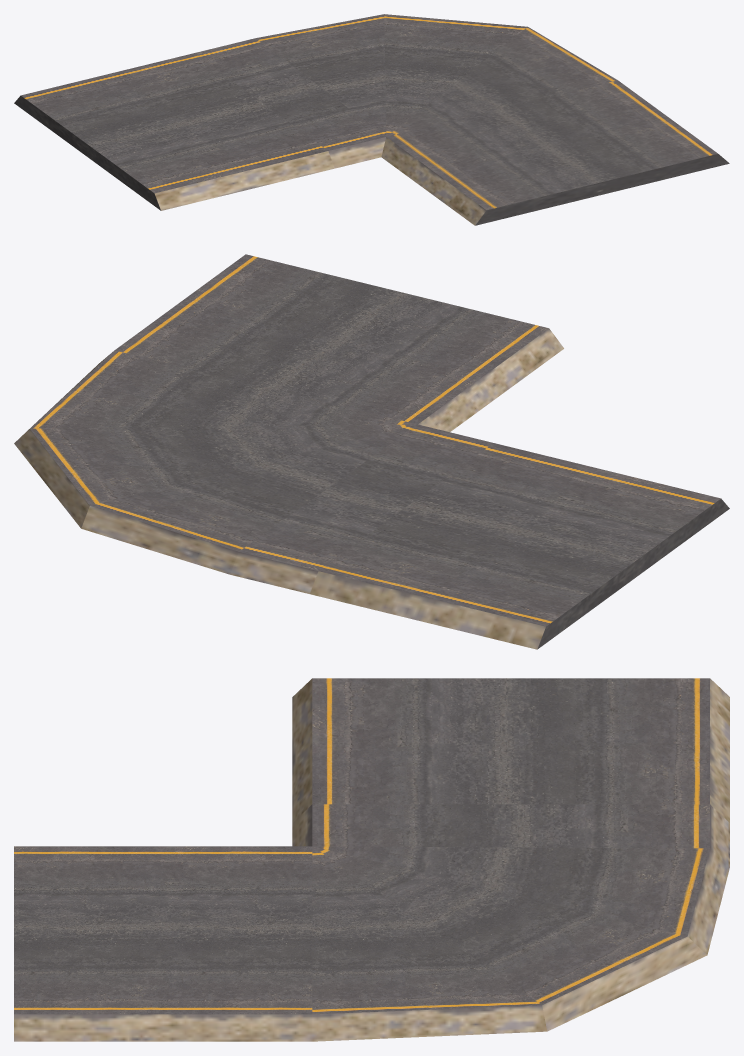
File: road_1_right.fbx
3 renders of one model, top to bottom at view 1: azimuth 30°, elevation 25°; view 2: azimuth 150°, elevation 25°; view 3: azimuth 270°, elevation 25°, orthographic. The views are drawn at different scales.
Visible parts, largest first — view 1: Plane; view 2: Plane; view 3: Plane.
Part boxes in pixels (left/top/right/bottom): Plane: left=14, top=14, right=729, bottom=225; Plane: left=14, top=254, right=729, bottom=649; Plane: left=14, top=678, right=729, bottom=1041.
Bounding box in the file's own units: 820 × 20.93 × 720.
